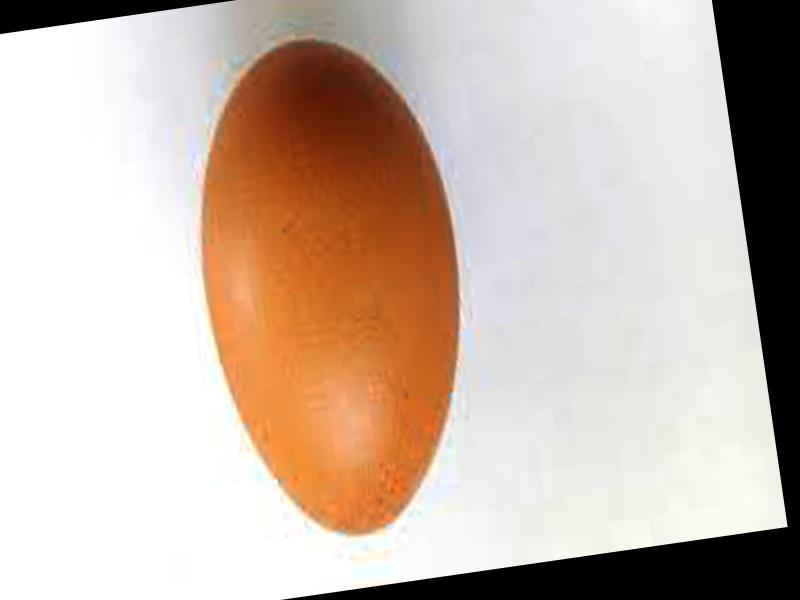Eggs: (174, 26, 494, 551)
